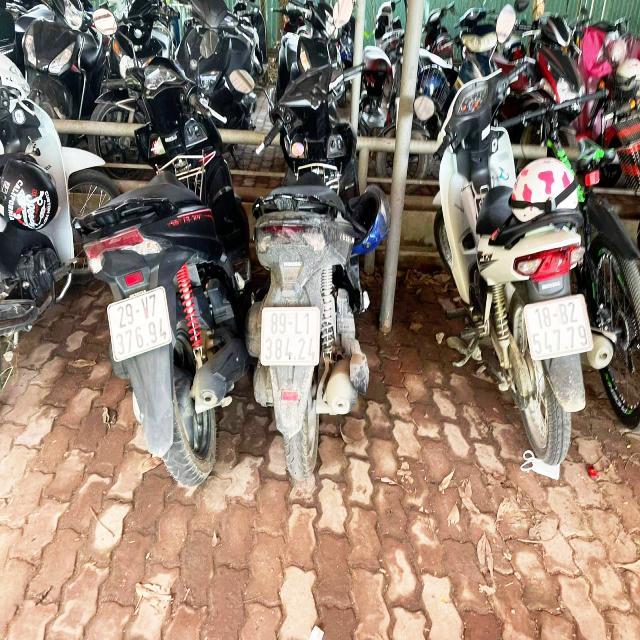license_plate: (109, 287, 174, 366), (525, 299, 594, 357), (261, 310, 321, 364)
